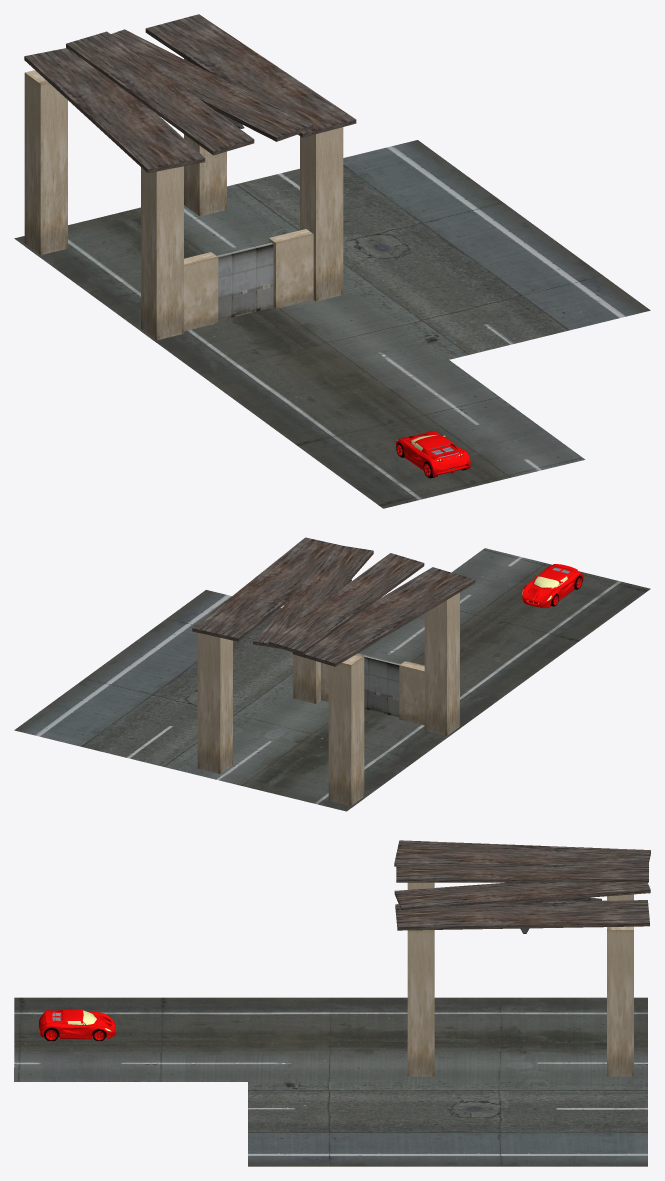
File: ParkingSimple.fbx
3 views of the same model, one above another, from view 1: azimuth 30°, elevation 25°; view 2: azimuth 150°, elevation 25°; view 3: azimuth 270°, elevation 25° (orthographic). The views are drawn at different scales.
Parts seen in each view (by area): view 1: Suelo, Techo, Columnas, Bandas, Puerta, Lotus; view 2: Suelo, Techo, Columnas, Puerta, Bandas, Lotus; view 3: Suelo, Techo, Columnas, Lotus.
Part boxes in pixels (x1,y1,x2,y2): Suelo: [14, 140, 650, 508]; Techo: [24, 14, 356, 173]; Columnas: [24, 58, 343, 340]; Bandas: [184, 229, 313, 331]; Puerta: [216, 242, 273, 320]; Lotus: [396, 431, 470, 478]; Suelo: [14, 548, 650, 811]; Techo: [192, 537, 475, 666]; Columnas: [197, 592, 459, 805]; Puerta: [357, 653, 400, 717]; Bandas: [321, 661, 424, 725]; Lotus: [522, 564, 583, 607]; Suelo: [14, 997, 647, 1166]; Techo: [394, 840, 650, 930]; Columnas: [407, 882, 633, 1076]; Lotus: [38, 1008, 115, 1040].
Bounding box in the file's own units: 610 × 262 × 945.
Materials: 9 (5 with a texture image).
